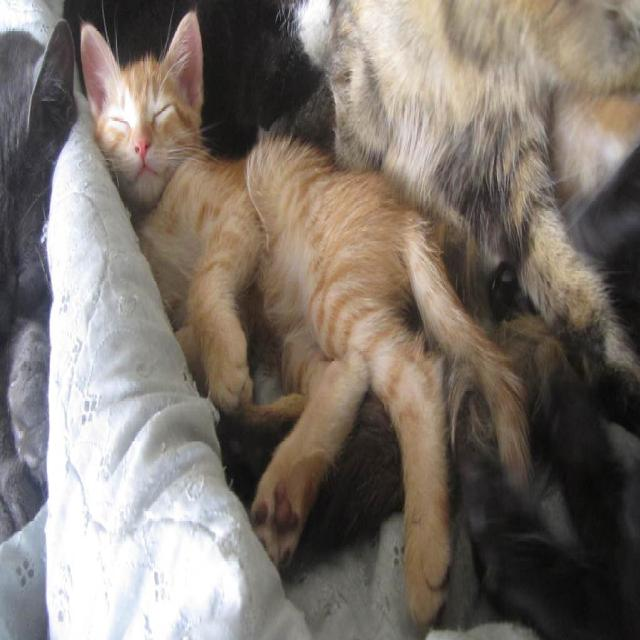Cat: (79, 2, 573, 628), (0, 16, 78, 540)
